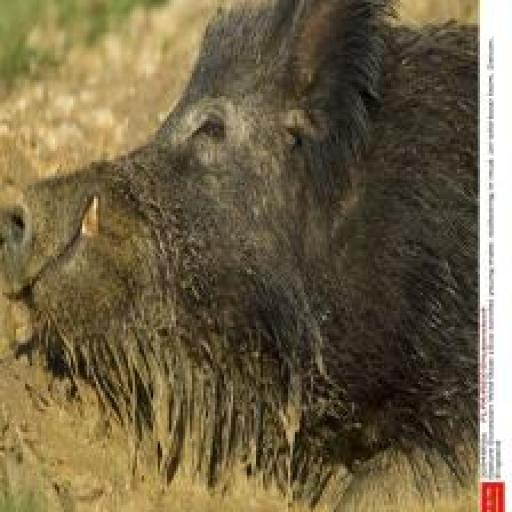Pig: (0, 0, 478, 512)
